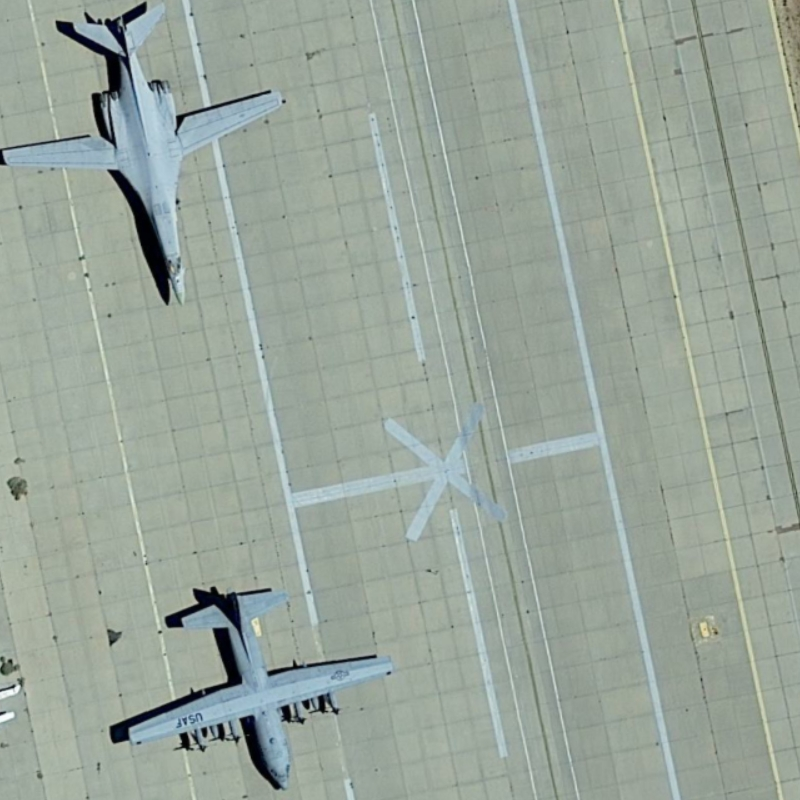A10: (2, 2, 286, 315)
A2: (110, 578, 394, 797)
